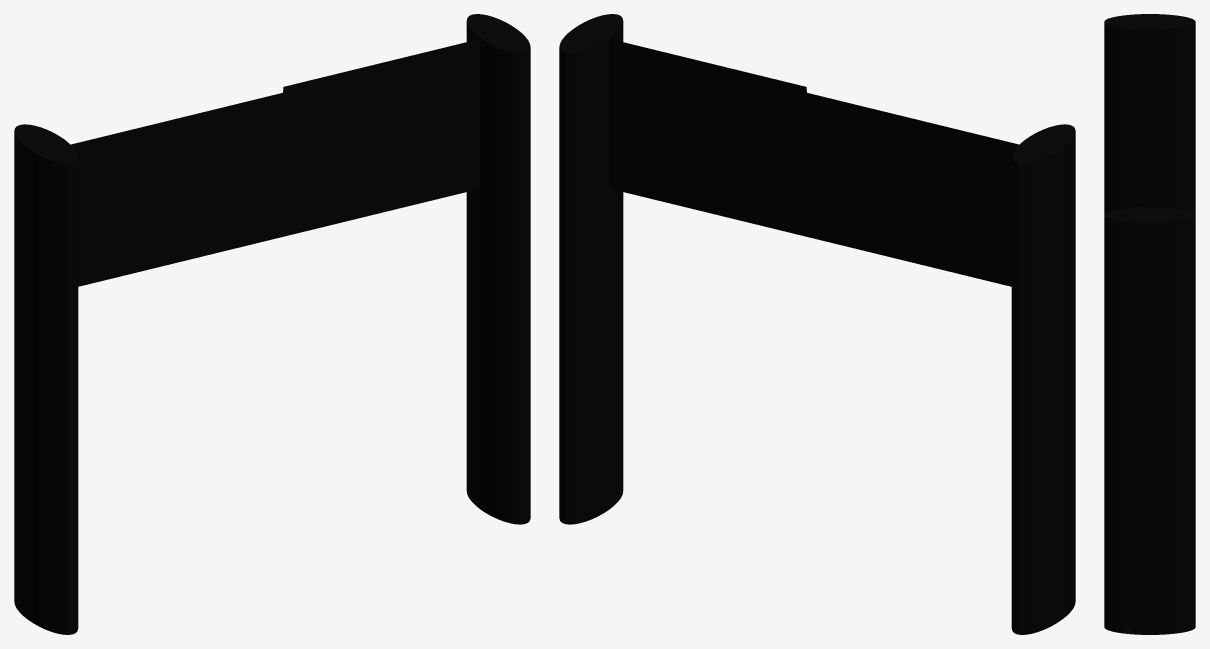
File: goal.obj
The picture shows the model from 3 angles, left to right: view 1: azimuth 30°, elevation 25°; view 2: azimuth 150°, elevation 25°; view 3: azimuth 270°, elevation 25°; orthographic projection. The views are drawn at different scales.
Parts seen in each view (by area): view 1: 円柱; view 2: 円柱; view 3: 円柱.
Part boxes in pixels (left/top/right/bottom): 円柱: left=14, top=14, right=530, bottom=634; 円柱: left=559, top=14, right=1075, bottom=634; 円柱: left=1104, top=14, right=1195, bottom=634.
Bounding box in the file's own units: 10.81 × 9.96 × 2.
1 material, 1 textured.
